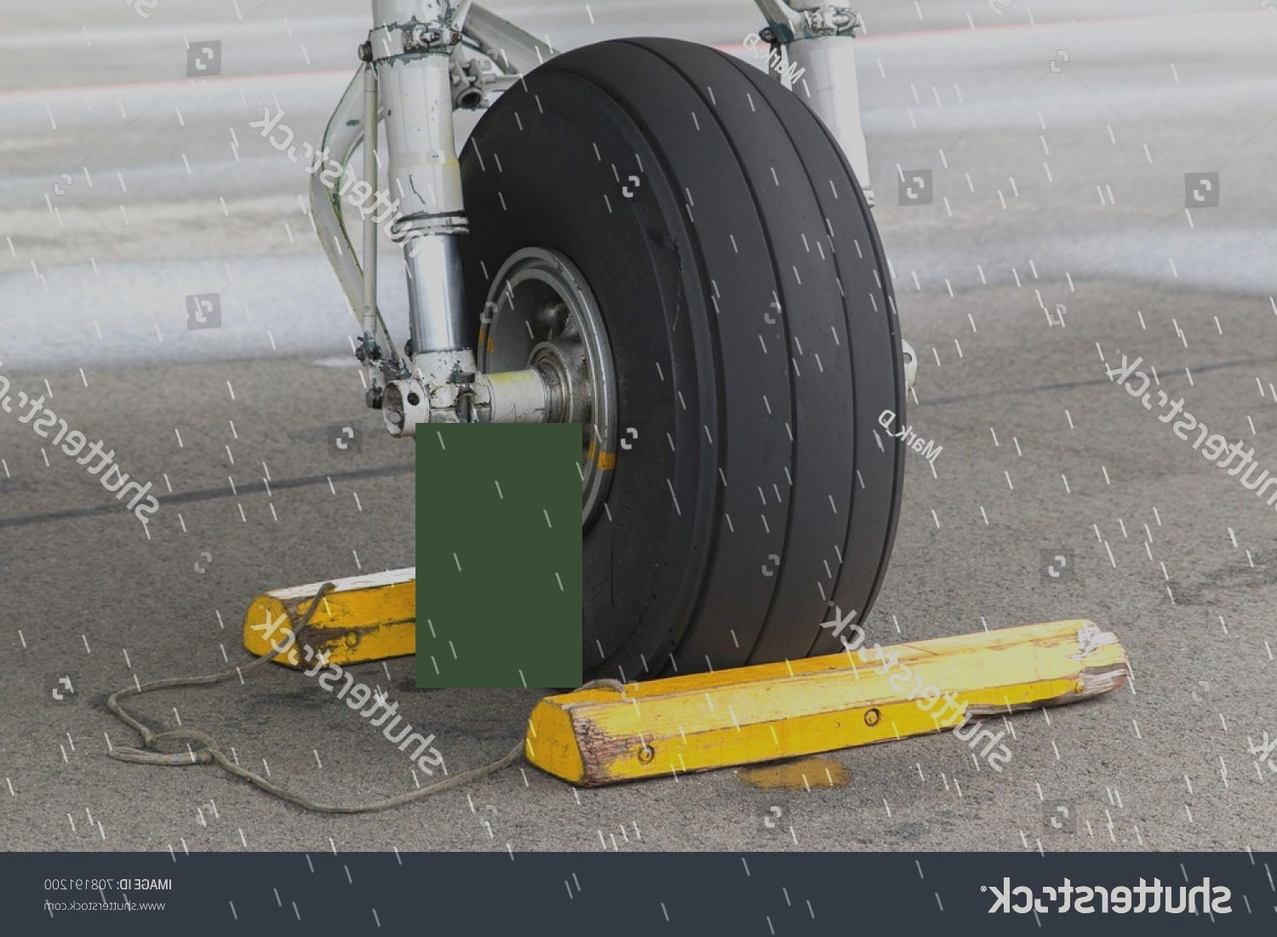chock: (514, 614, 1132, 787), (240, 556, 668, 672)
wheel: (458, 29, 908, 697)
